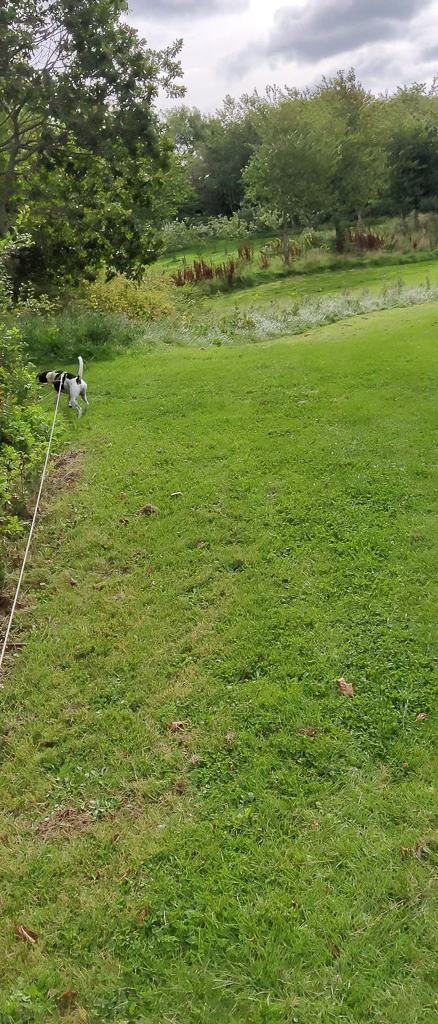Dog: (33, 353, 93, 421)
